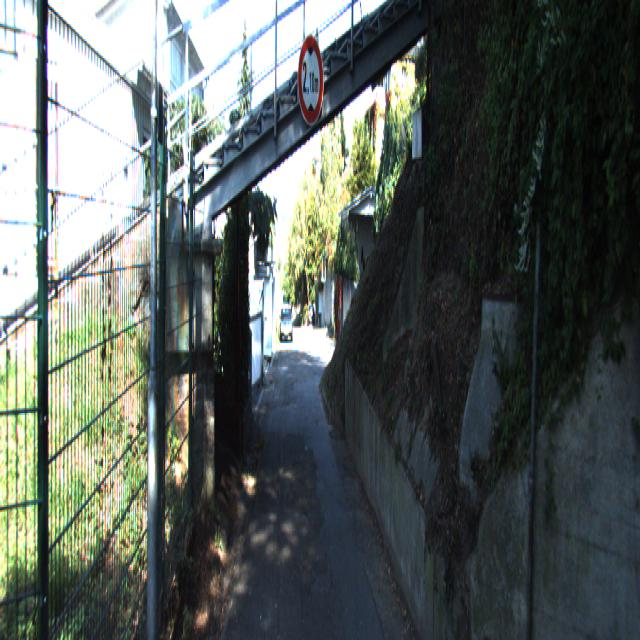Car: (280, 306, 292, 344)
